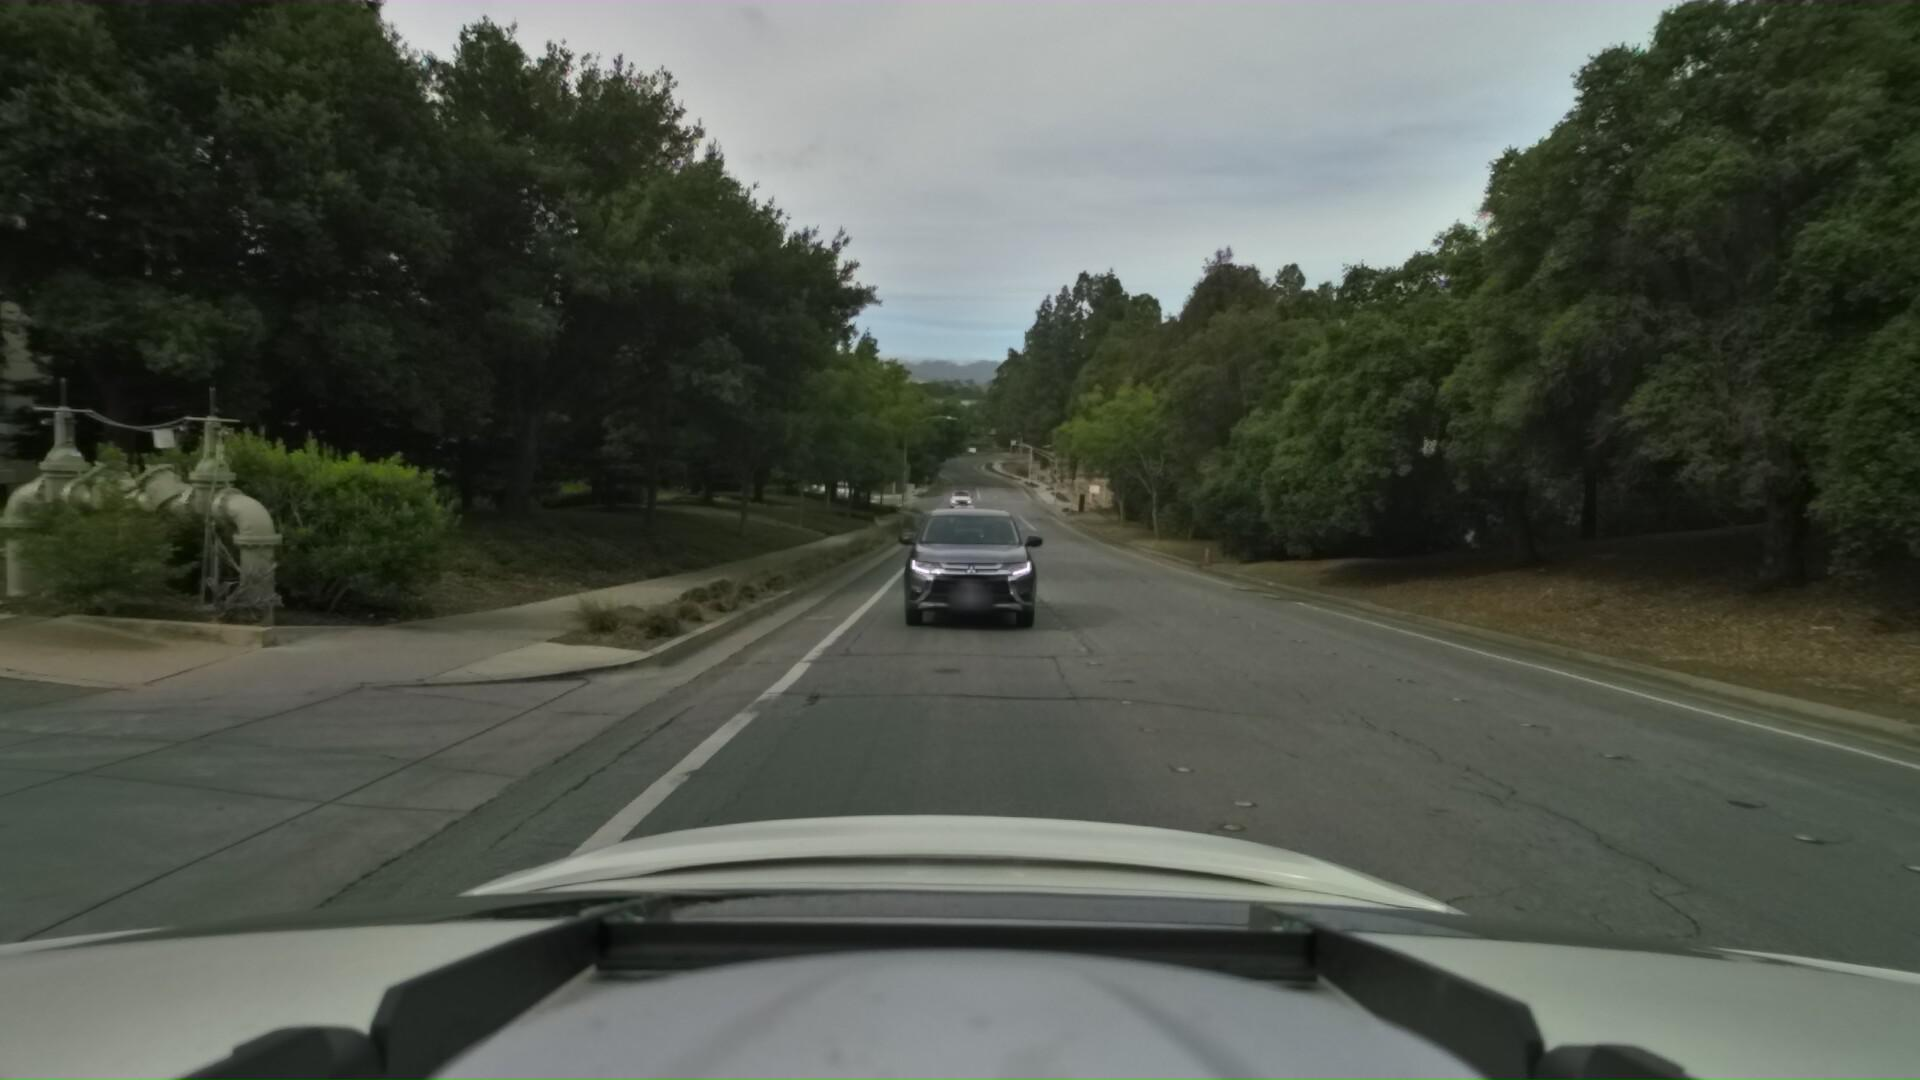car: (887, 480, 1047, 669)
